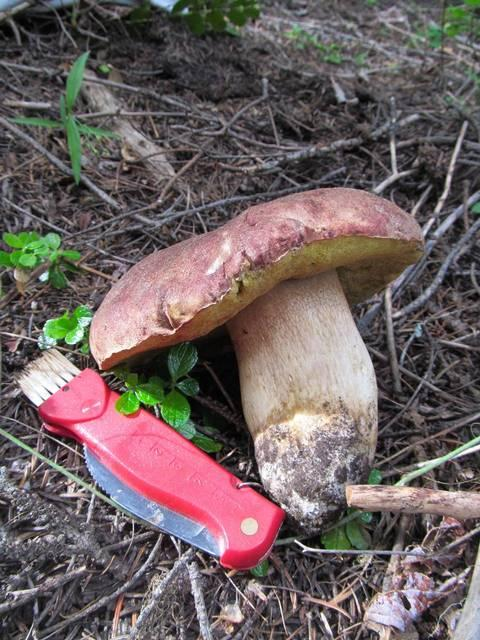edible_mushroom: (86, 185, 425, 538)
